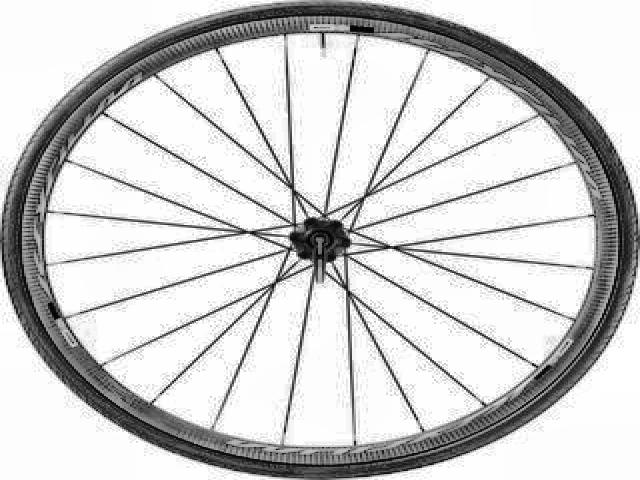wheel: (3, 1, 640, 480)
